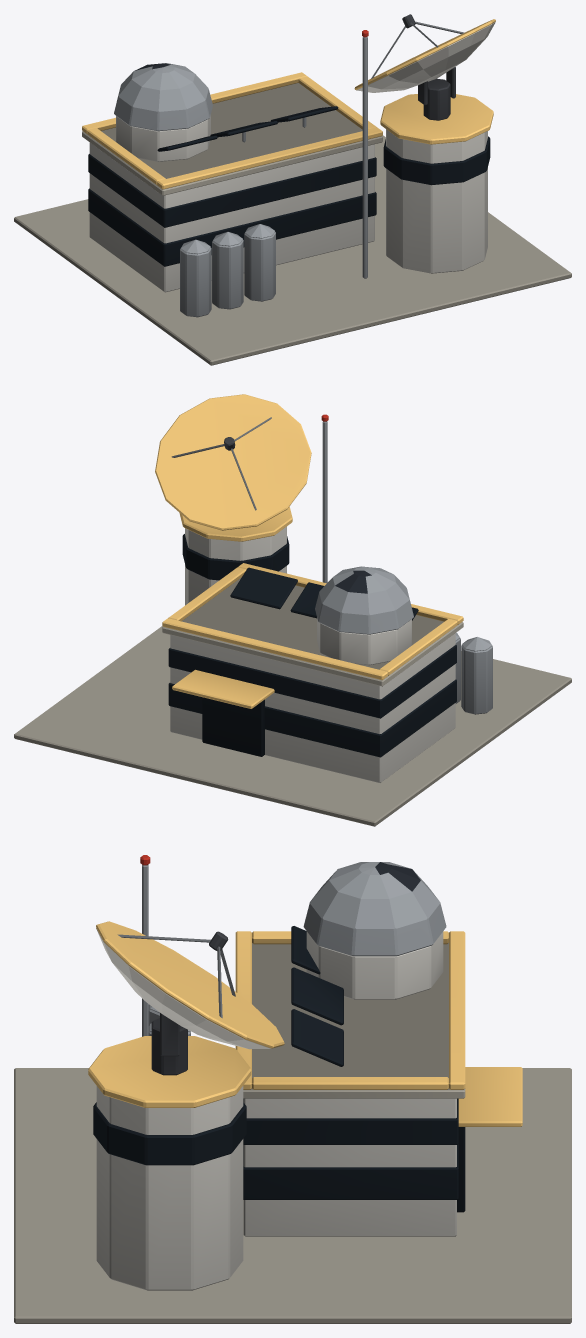
Rendered from research_lab.glb.
3 renders of one model, top to bottom at view 1: azimuth 30°, elevation 25°; view 2: azimuth 150°, elevation 25°; view 3: azimuth 270°, elevation 25°, orthographic. The views are drawn at different scales.
Visible parts, largest first — view 1: research_lab; view 2: research_lab; view 3: research_lab.
Part boxes in pixels (x1,y1,x2,y2): research_lab: (14,14,571,365); research_lab: (14,394,571,826); research_lab: (14,855,571,1323).
Size of the model in its own units: 3.6 by 2.4 by 3.4.
